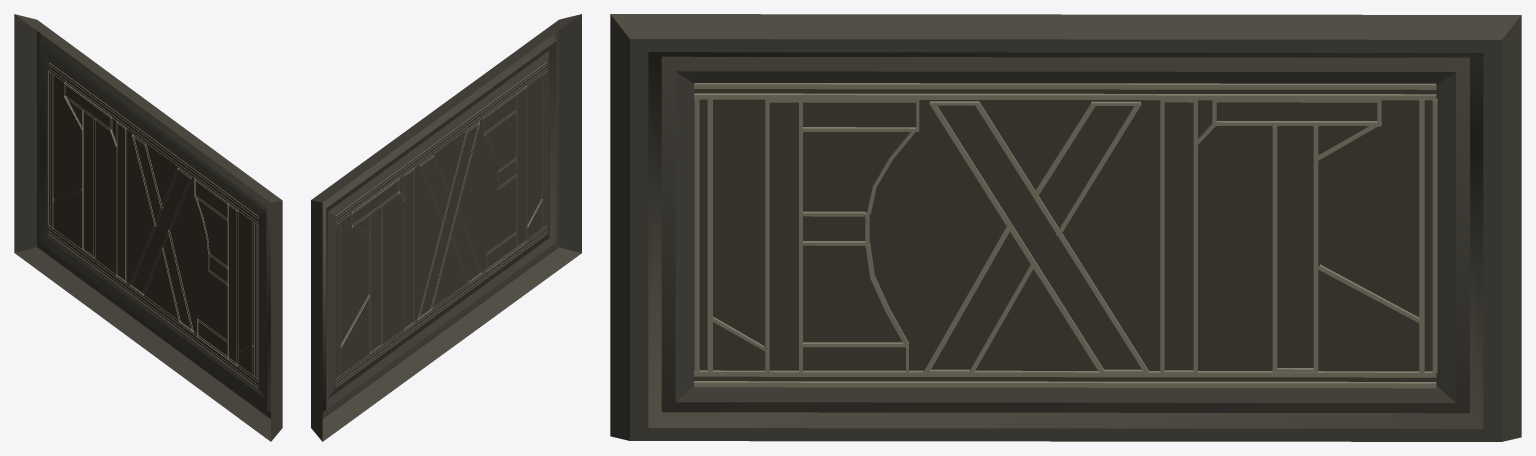
Rendered from ExitSign.fbx.
3 views of the same model, side by side, from view 1: azimuth 30°, elevation 25°; view 2: azimuth 150°, elevation 25°; view 3: azimuth 270°, elevation 25° (orthographic). The views are drawn at different scales.
Parts seen in each view (by area): view 1: ExitSign_Base, ExitSign_X, ExitSign_E, ExitSign_T, ExitSign_I, ExitSign_Light_7, ExitSign_Light_9, ExitSign_Light_6, ExitSign_Light_8, ExitSign_Light_5, ExitSign_Light_10, ExitSign_Light_11 (+1 smaller); view 2: ExitSign_Base, ExitSign_X, ExitSign_E, ExitSign_T, ExitSign_I, ExitSign_Light_7, ExitSign_Light_9, ExitSign_Light_10, ExitSign_Light_8, ExitSign_Light_12, ExitSign_Light_5, ExitSign_Light_11 (+1 smaller); view 3: ExitSign_Base, ExitSign_X, ExitSign_E, ExitSign_Light_5, ExitSign_Light_9, ExitSign_Light_7, ExitSign_Light_8, ExitSign_T, ExitSign_I, ExitSign_Light_11, ExitSign_Light_12, ExitSign_Light_6 (+1 smaller).
Boxes of the visible parts, bbox=[...] form: ExitSign_Base: bbox=[14, 14, 282, 441]; ExitSign_X: bbox=[129, 134, 193, 332]; ExitSign_E: bbox=[194, 178, 238, 366]; ExitSign_T: bbox=[64, 82, 112, 258]; ExitSign_I: bbox=[116, 120, 126, 283]; ExitSign_Light_7: bbox=[49, 62, 258, 218]; ExitSign_Light_9: bbox=[49, 231, 258, 387]; ExitSign_Light_6: bbox=[256, 224, 258, 379]; ExitSign_Light_8: bbox=[49, 225, 258, 381]; ExitSign_Light_5: bbox=[49, 68, 258, 224]; ExitSign_Light_10: bbox=[252, 221, 254, 376]; ExitSign_Light_11: bbox=[48, 71, 50, 225]; ExitSign_Base: bbox=[311, 14, 581, 441]; ExitSign_X: bbox=[417, 121, 481, 319]; ExitSign_E: bbox=[483, 85, 527, 271]; ExitSign_T: bbox=[351, 178, 399, 354]; ExitSign_I: bbox=[403, 167, 414, 330]; ExitSign_Light_7: bbox=[336, 62, 547, 218]; ExitSign_Light_9: bbox=[336, 231, 547, 387]; ExitSign_Light_10: bbox=[541, 74, 543, 229]; ExitSign_Light_8: bbox=[336, 225, 547, 381]; ExitSign_Light_12: bbox=[339, 221, 341, 376]; ExitSign_Light_5: bbox=[336, 68, 547, 224]; ExitSign_Light_11: bbox=[335, 224, 337, 379]; ExitSign_Base: bbox=[610, 14, 1521, 441]; ExitSign_X: bbox=[923, 101, 1148, 372]; ExitSign_E: bbox=[765, 99, 919, 372]; ExitSign_Light_5: bbox=[694, 93, 1436, 100]; ExitSign_Light_9: bbox=[694, 381, 1436, 388]; ExitSign_Light_7: bbox=[694, 83, 1436, 89]; ExitSign_Light_8: bbox=[694, 370, 1436, 377]; ExitSign_T: bbox=[1212, 100, 1381, 372]; ExitSign_I: bbox=[1160, 100, 1197, 372]; ExitSign_Light_11: bbox=[1432, 99, 1437, 373]; ExitSign_Light_12: bbox=[1419, 100, 1424, 372]; ExitSign_Light_6: bbox=[694, 99, 699, 371].
Size of the model in its own units: 2.17 by 26.98 by 52.77.
